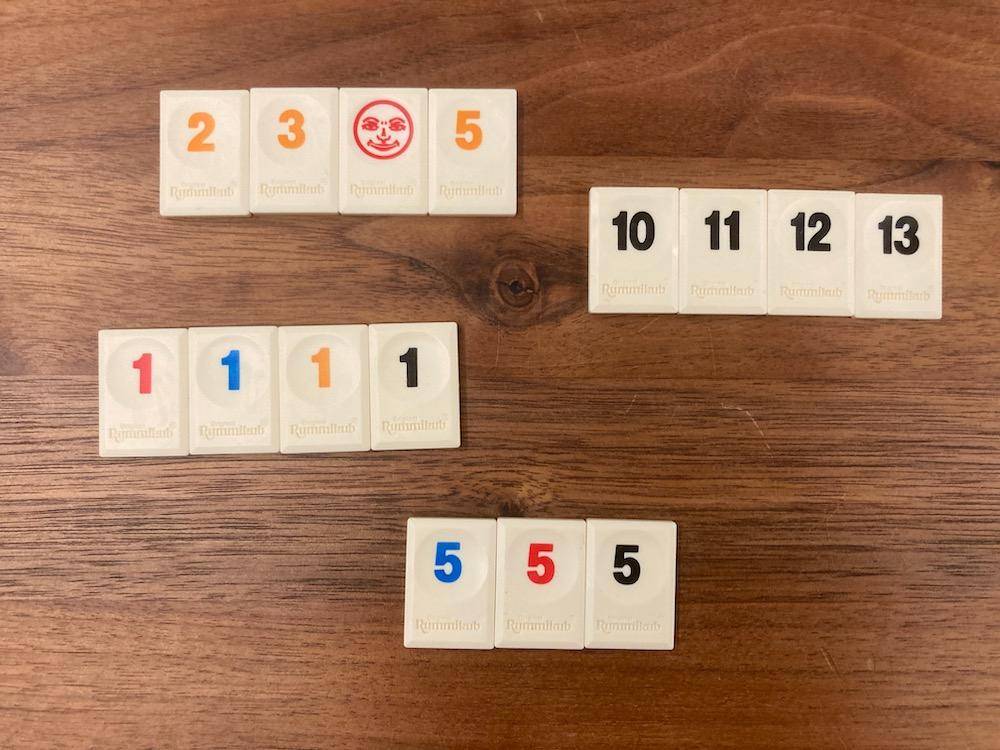black_1: (369, 322, 461, 450)
black_10: (588, 188, 680, 312)
black_11: (680, 189, 768, 314)
black_12: (768, 189, 855, 315)
black_13: (855, 193, 941, 318)
black_5: (584, 520, 676, 649)
blue_1: (188, 326, 279, 455)
blue_5: (404, 518, 496, 648)
joker: (340, 88, 428, 215)
orange_1: (279, 324, 371, 452)
orange_2: (160, 90, 250, 217)
orange_3: (250, 88, 338, 212)
orange_5: (428, 90, 516, 215)
red_1: (100, 328, 189, 457)
red_5: (494, 518, 586, 648)
